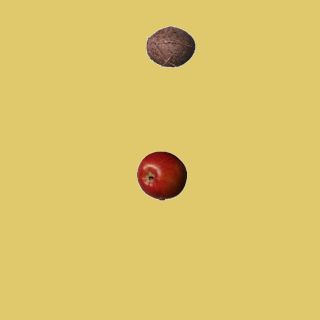Apple Braeburn: (136, 150, 186, 200)
Cocos: (145, 21, 195, 71)
